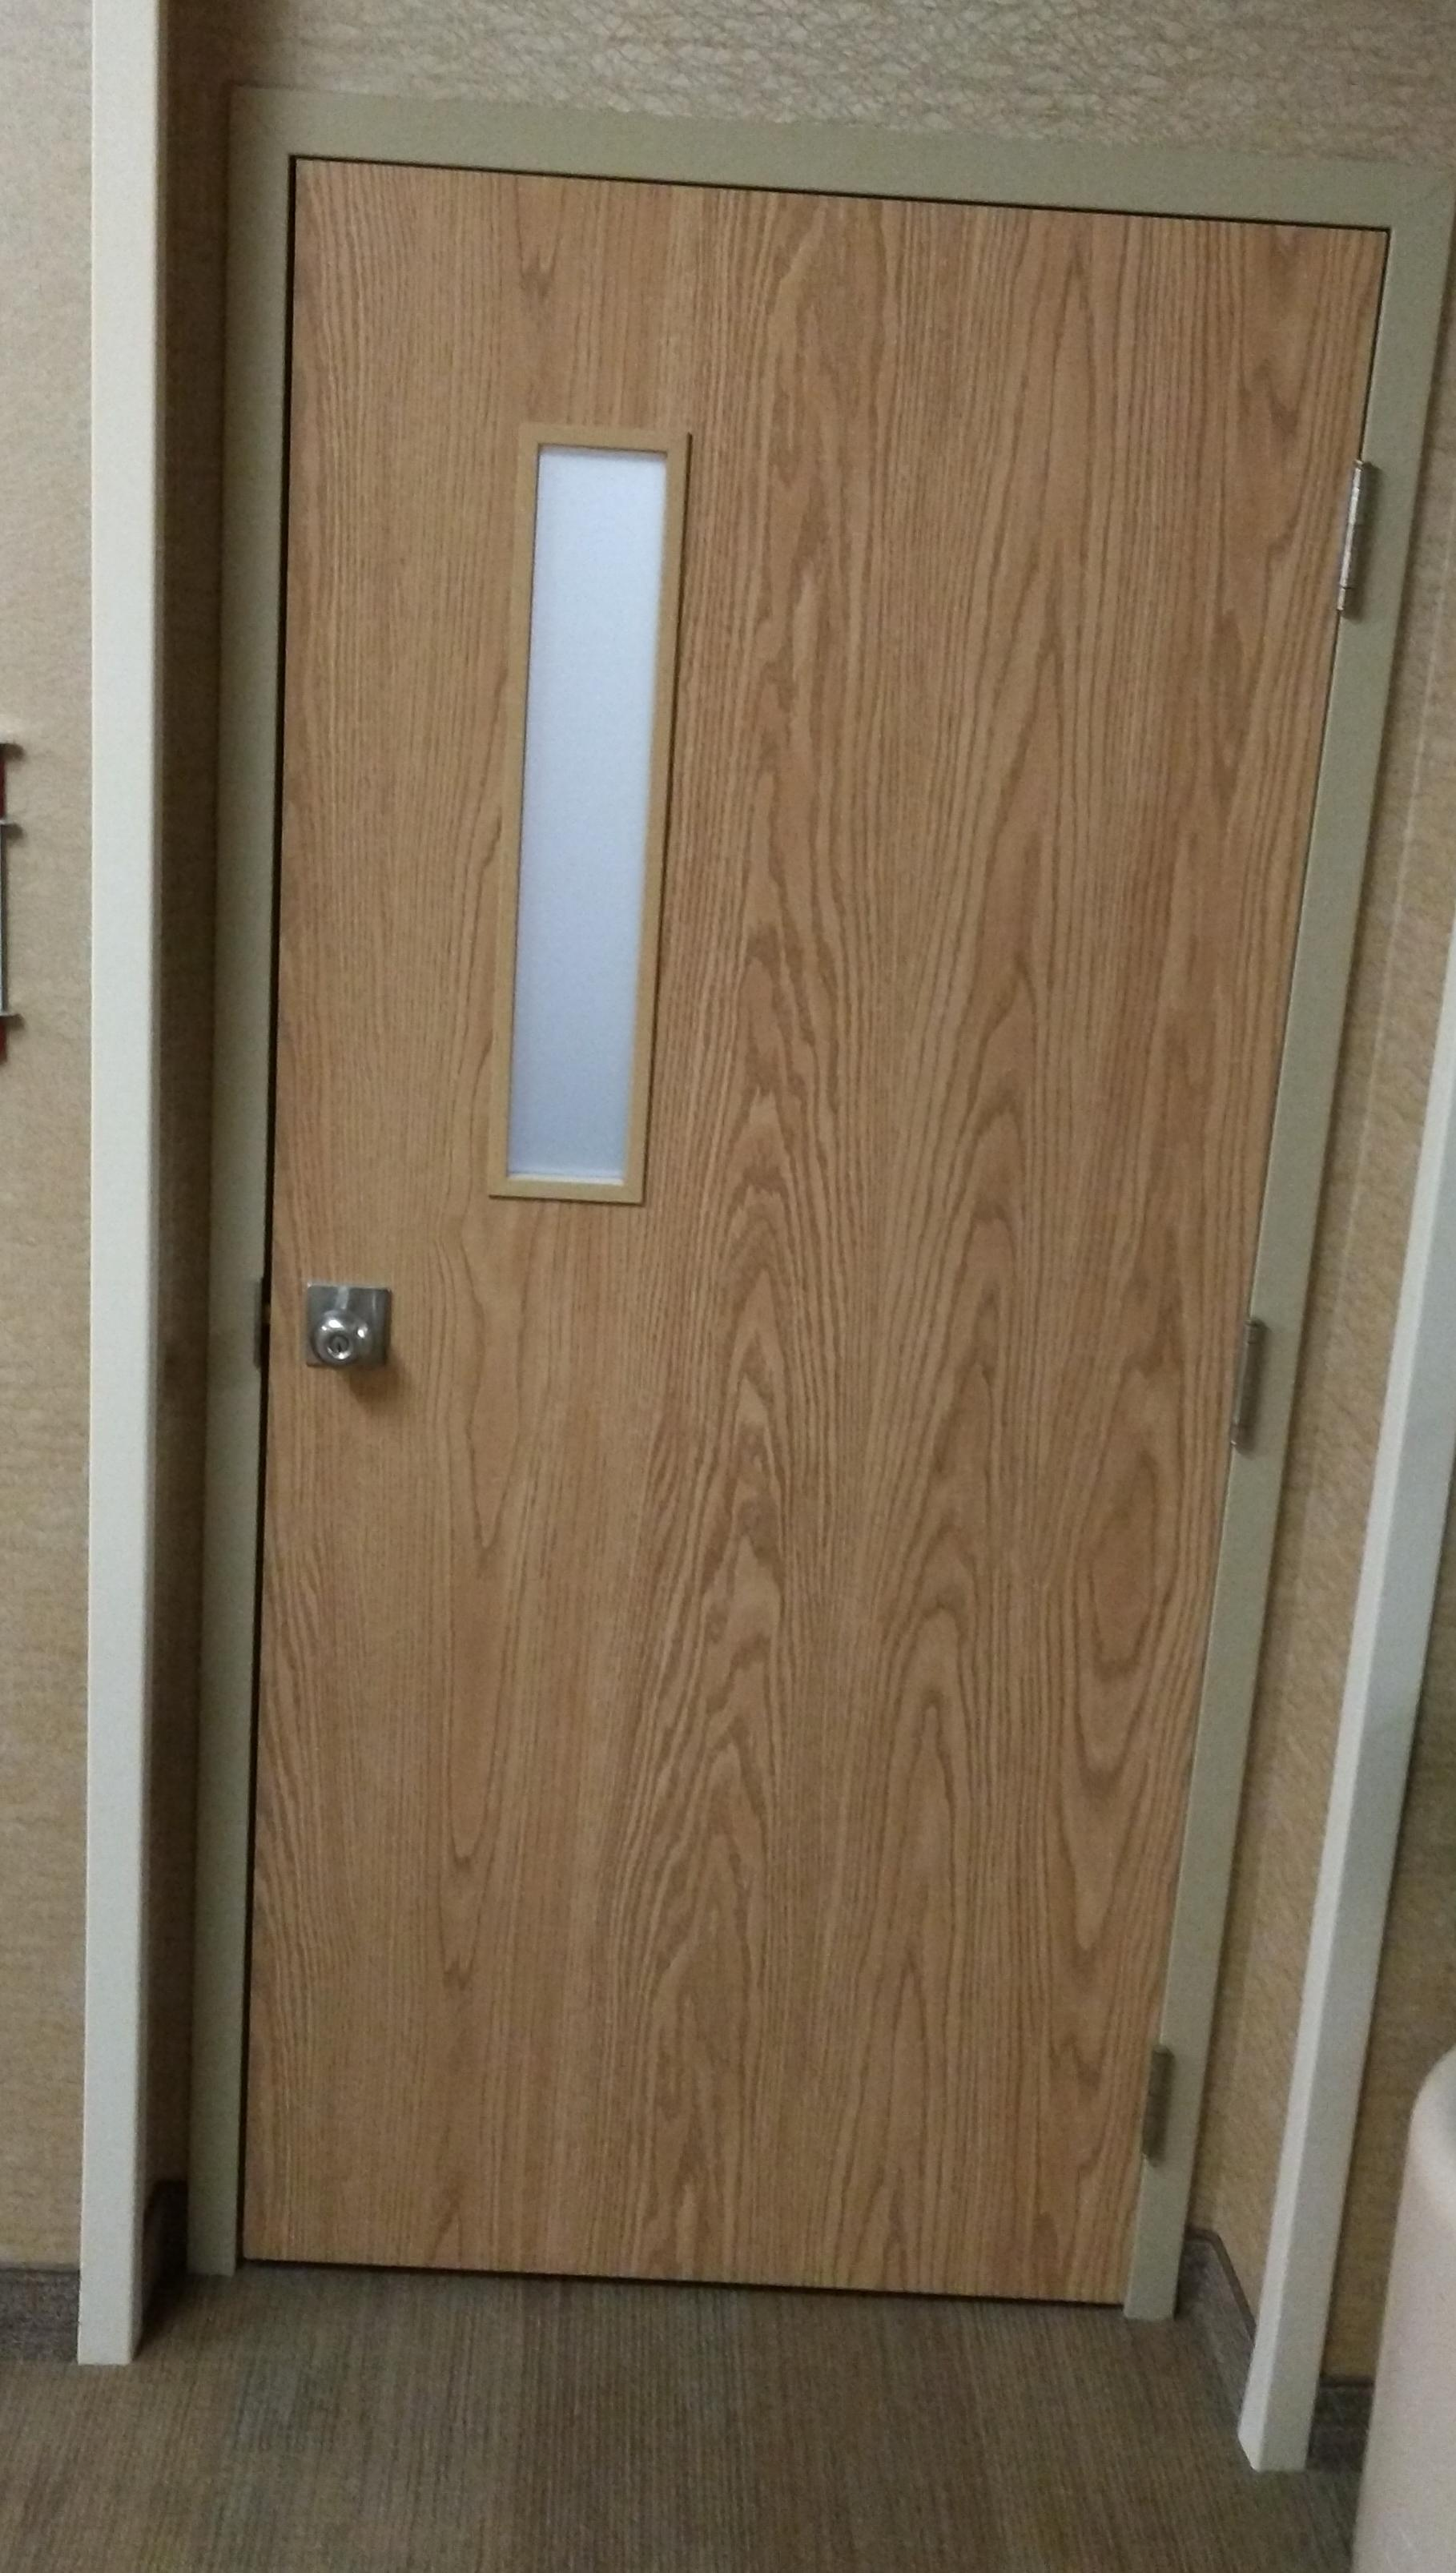door: (292, 203, 1141, 2304)
handle: (299, 1279, 385, 1408)
